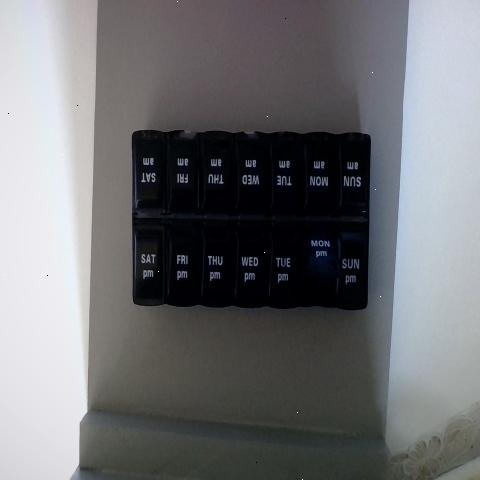FRI-am: (170, 131, 198, 208)
FRI-pm: (168, 215, 202, 302)
MON-am: (300, 140, 334, 221)
Open: (302, 234, 335, 308)
PillBox: (112, 111, 385, 342)
SAT-am: (131, 129, 166, 211)
SAT-pm: (132, 220, 168, 303)
SUN-am: (335, 141, 368, 227)
SUN-pm: (334, 228, 368, 311)
THU-am: (203, 133, 236, 216)
THU-pm: (203, 224, 239, 302)
TUE-am: (269, 140, 300, 220)
TUE-pm: (268, 229, 300, 306)
WED-am: (237, 136, 270, 219), (238, 229, 269, 309)
